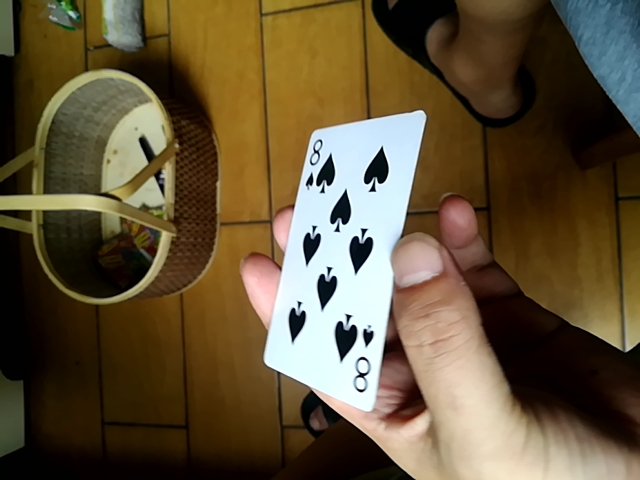ht 8: (263, 110, 426, 427)
